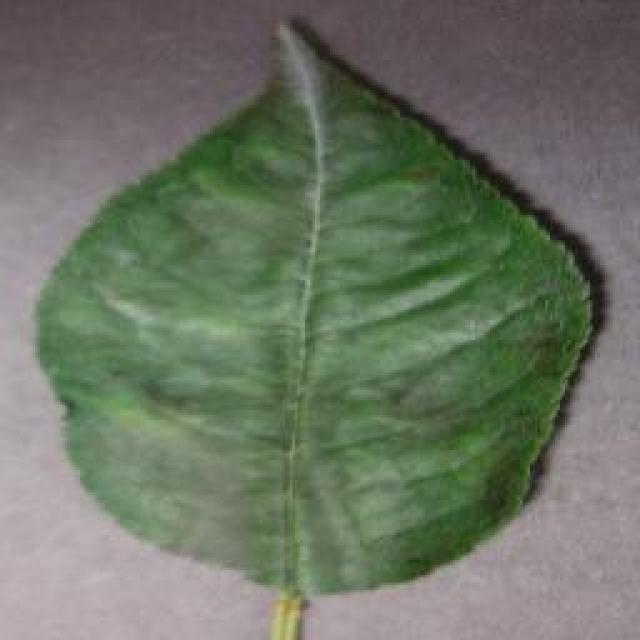Cherry___Powdery_mildew: (16, 32, 556, 465)
